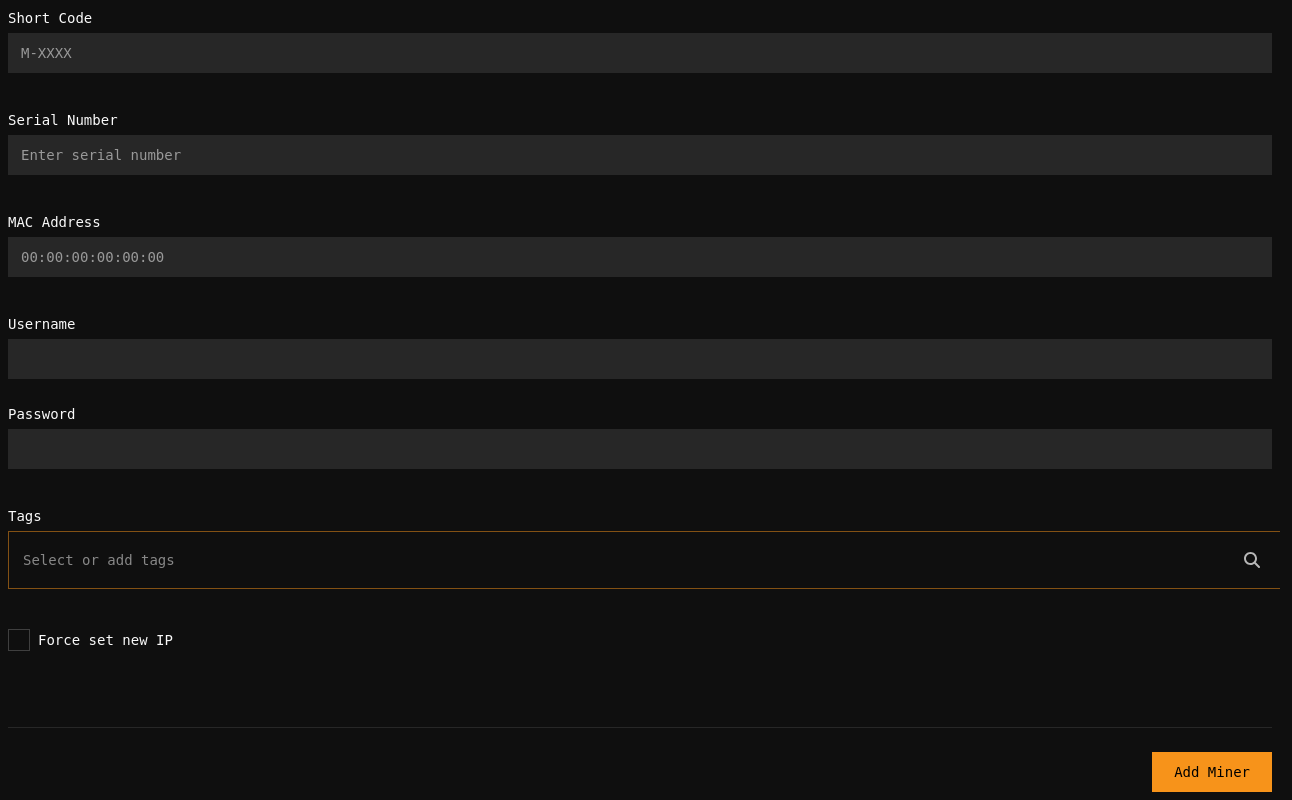
AddReplaceMinerDialogContent › form validation › shows error when serial number is empty on submit
The image size is (1292, 800).
(page scrolled)
Step 1. Click the button "Add Miner" → {"x": 1212, "y": 772}, box [1152,752,1272,792]
(page scrolled)
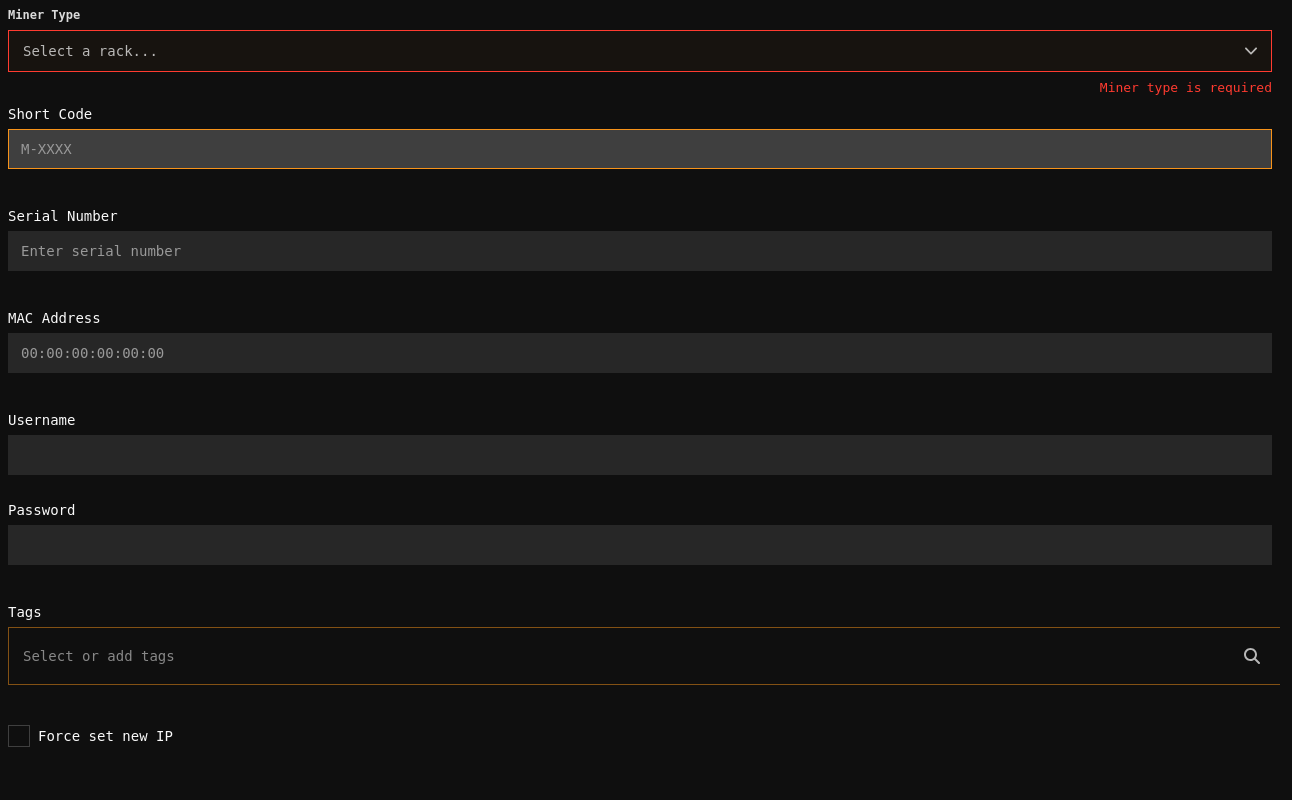
Now the text "Miner type is required" is shown, box [1100,80,1272,95]
